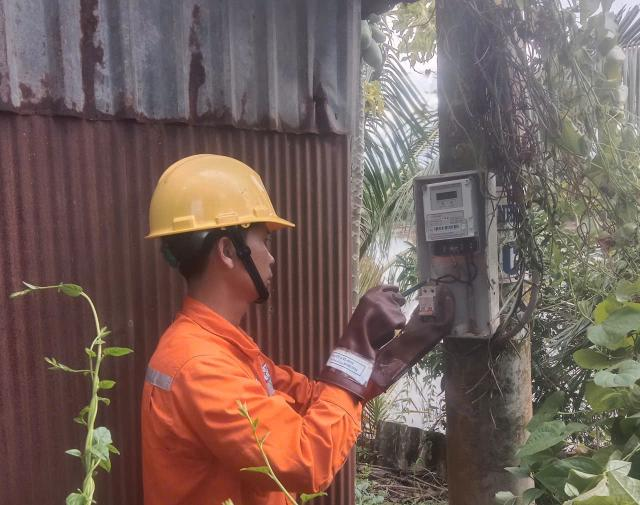gloves: (361, 289, 466, 389), (324, 274, 406, 402)
helmet: (124, 145, 309, 240)
